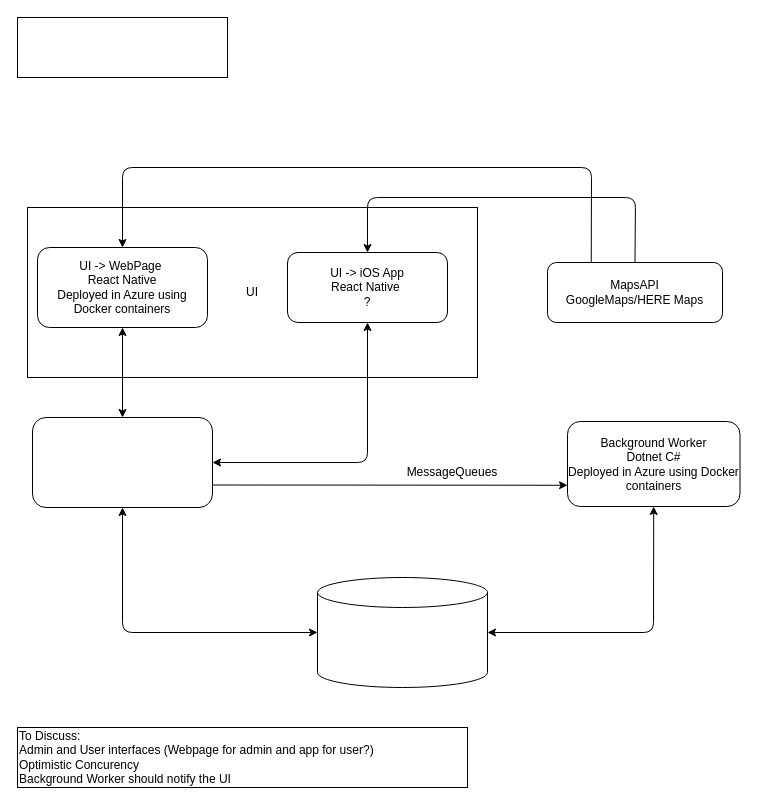
Image size: 758x805. Some labels were removed from this diagram. Each missing label, with the centre of its shape:
Database NoSQL Hosted in Azure: point (402, 632)
DATC Project - PrimeMinister Team Ponta Ciprian Popescu Sergiu: point (122, 47)
WebAPI Dotnet C# Deployed in Azure using Docker containers: point (122, 462)
